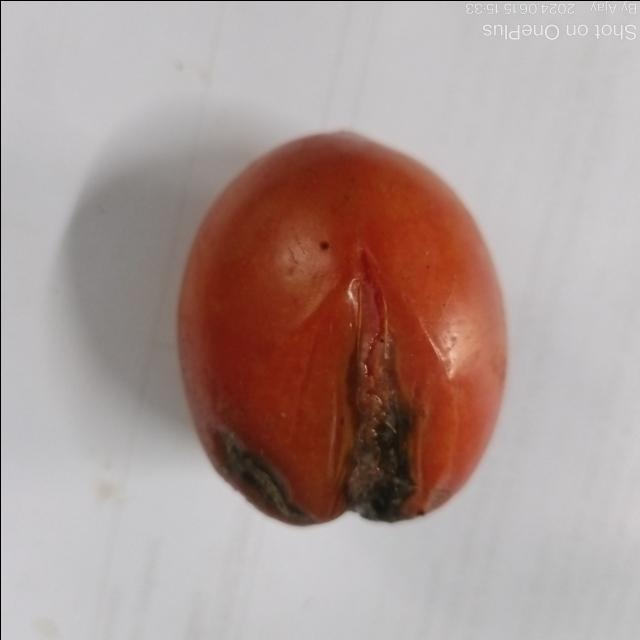Botrytis: (334, 267, 430, 521), (201, 440, 322, 526)
